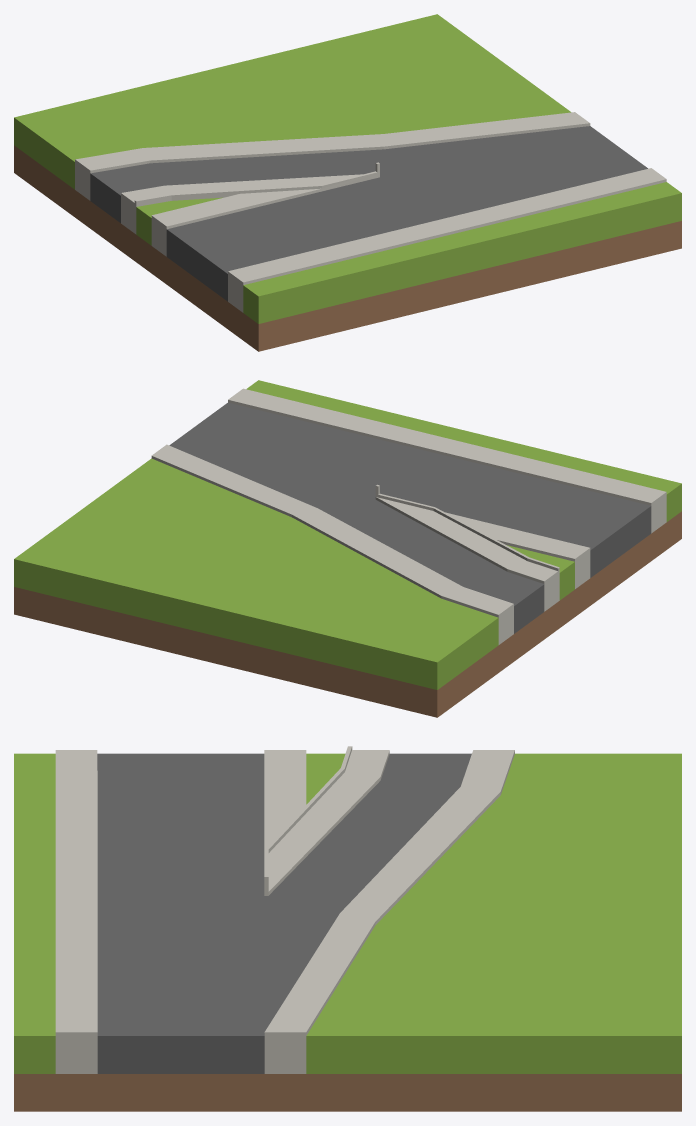
Rendered from track-pit-entry-large.obj.
3 views of the same model, one above another, from view 1: azimuth 30°, elevation 25°; view 2: azimuth 150°, elevation 25°; view 3: azimuth 270°, elevation 25° (orthographic). The views are drawn at different scales.
Parts seen in each view (by area): view 1: track-pit-entry-large_Cube.033; view 2: track-pit-entry-large_Cube.033; view 3: track-pit-entry-large_Cube.033.
Part boxes in pixels (bbox=[...]): track-pit-entry-large_Cube.033: bbox=[14, 14, 681, 351]; track-pit-entry-large_Cube.033: bbox=[14, 380, 681, 717]; track-pit-entry-large_Cube.033: bbox=[14, 746, 681, 1111].
Bounding box in the file's own units: 16 × 2.5 × 16.
Materials: 1 (1 with a texture image).
